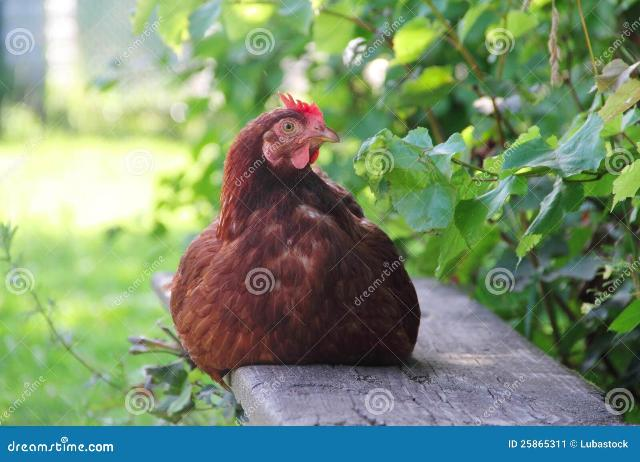Chicken: (170, 92, 420, 371)
